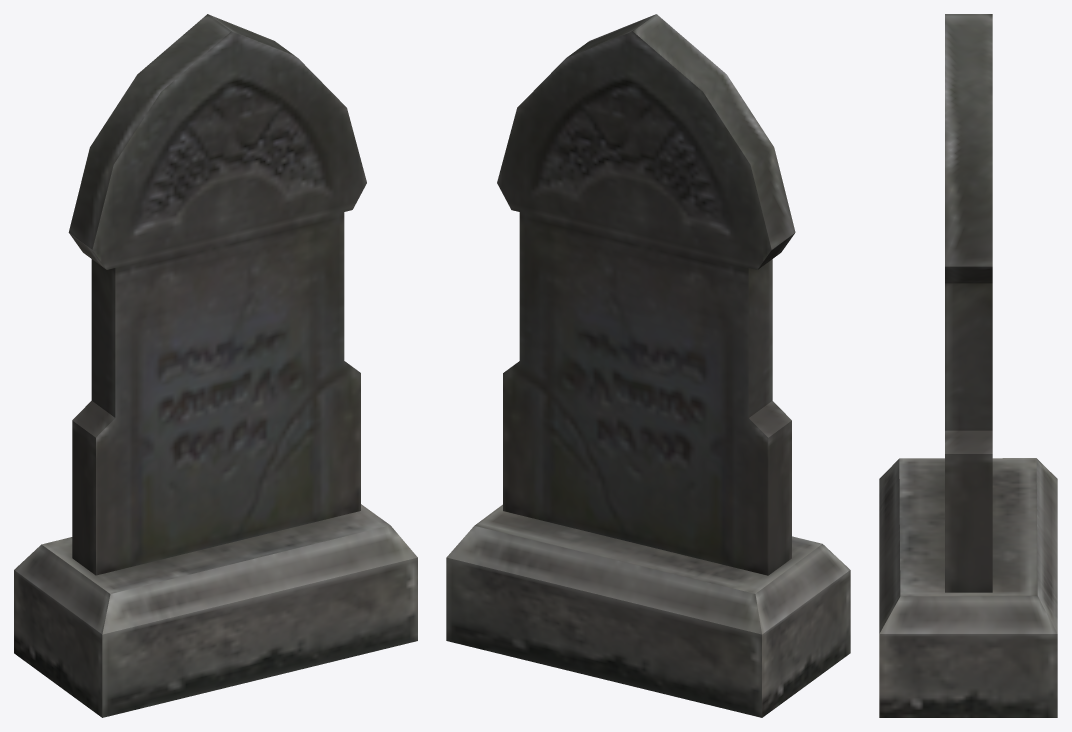
Rendered from KQZD_mubei_1.FBX.
The picture shows the model from 3 angles, left to right: view 1: azimuth 30°, elevation 25°; view 2: azimuth 150°, elevation 25°; view 3: azimuth 270°, elevation 25°; orthographic projection.
Parts seen in each view (by area): view 1: KQZD_mubei_1; view 2: KQZD_mubei_1; view 3: KQZD_mubei_1.
Part boxes in pixels (x1=…): KQZD_mubei_1: x1=14, y1=14, x2=417, y2=717; KQZD_mubei_1: x1=446, y1=14, x2=850, y2=717; KQZD_mubei_1: x1=879, y1=14, x2=1057, y2=717.
Bounding box in the file's own units: 79.79 × 38.69 × 151.
